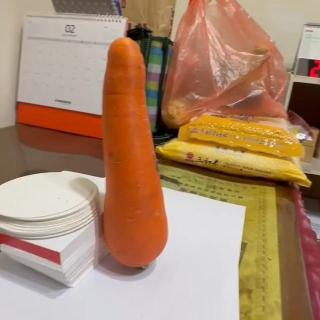carrot: (100, 37, 170, 269)
